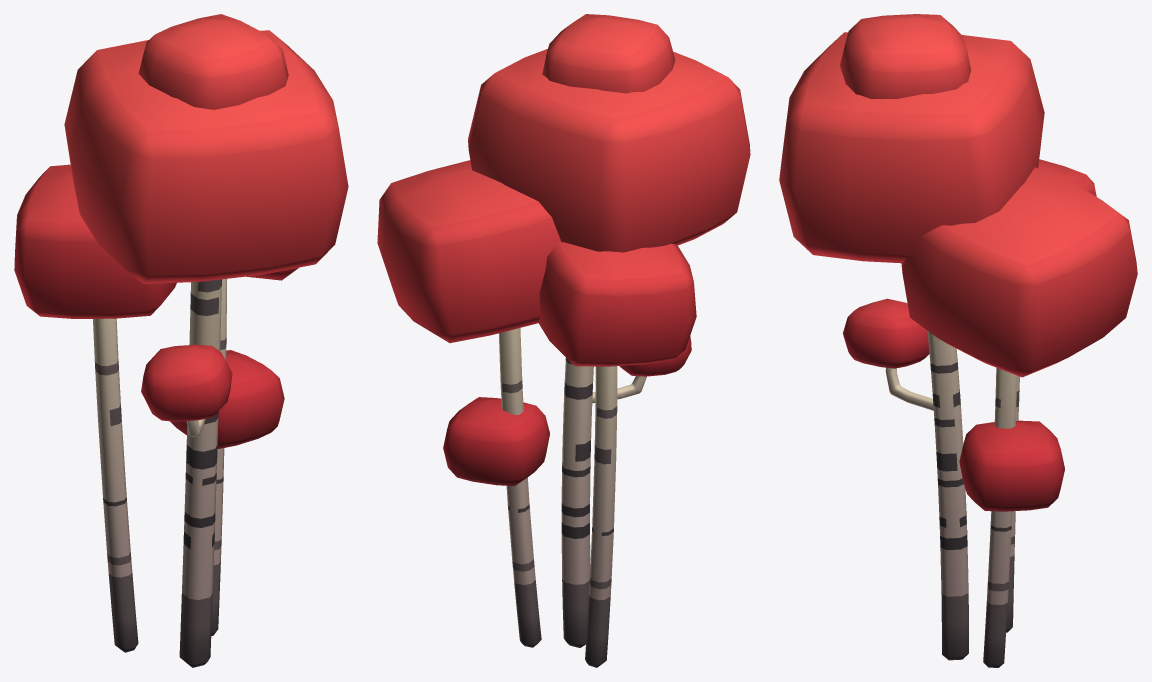
Rendered from birch_tree_col3_05.fbx.
3 views of the same model, side by side, from view 1: azimuth 30°, elevation 25°; view 2: azimuth 150°, elevation 25°; view 3: azimuth 270°, elevation 25° (orthographic). The views are drawn at different scales.
Visible parts, largest first — view 1: birch_tree_SC_col3_05; view 2: birch_tree_SC_col3_05; view 3: birch_tree_SC_col3_05.
Part boxes in pixels (box(x1,y1,x2,y2)): birch_tree_SC_col3_05: box(14, 14, 348, 667); birch_tree_SC_col3_05: box(377, 14, 750, 667); birch_tree_SC_col3_05: box(779, 14, 1137, 667).
Size of the model in its own units: 423 by 810 by 419.
